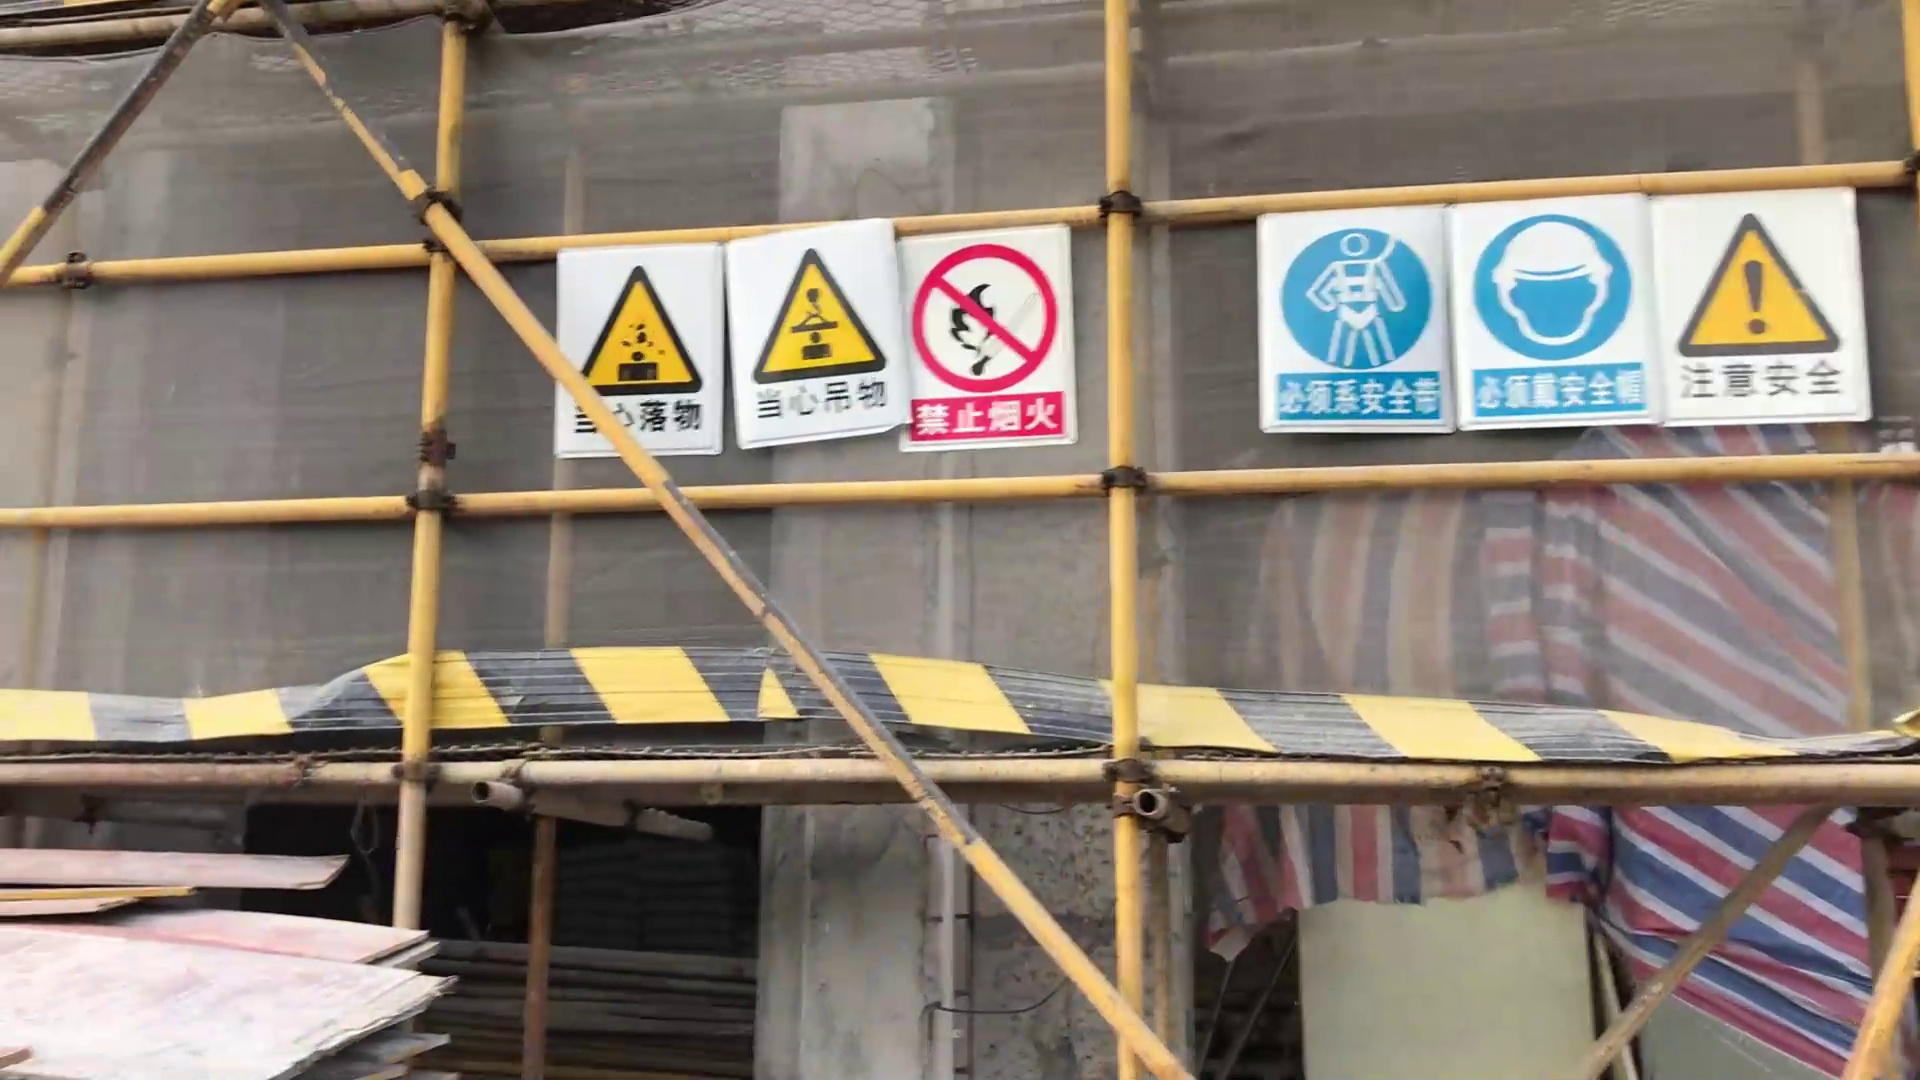board: (1, 831, 476, 1075)
slogan: (1638, 160, 1886, 450), (1441, 175, 1665, 438), (1250, 193, 1457, 440), (729, 208, 913, 458), (550, 233, 731, 467), (907, 222, 1084, 459)
